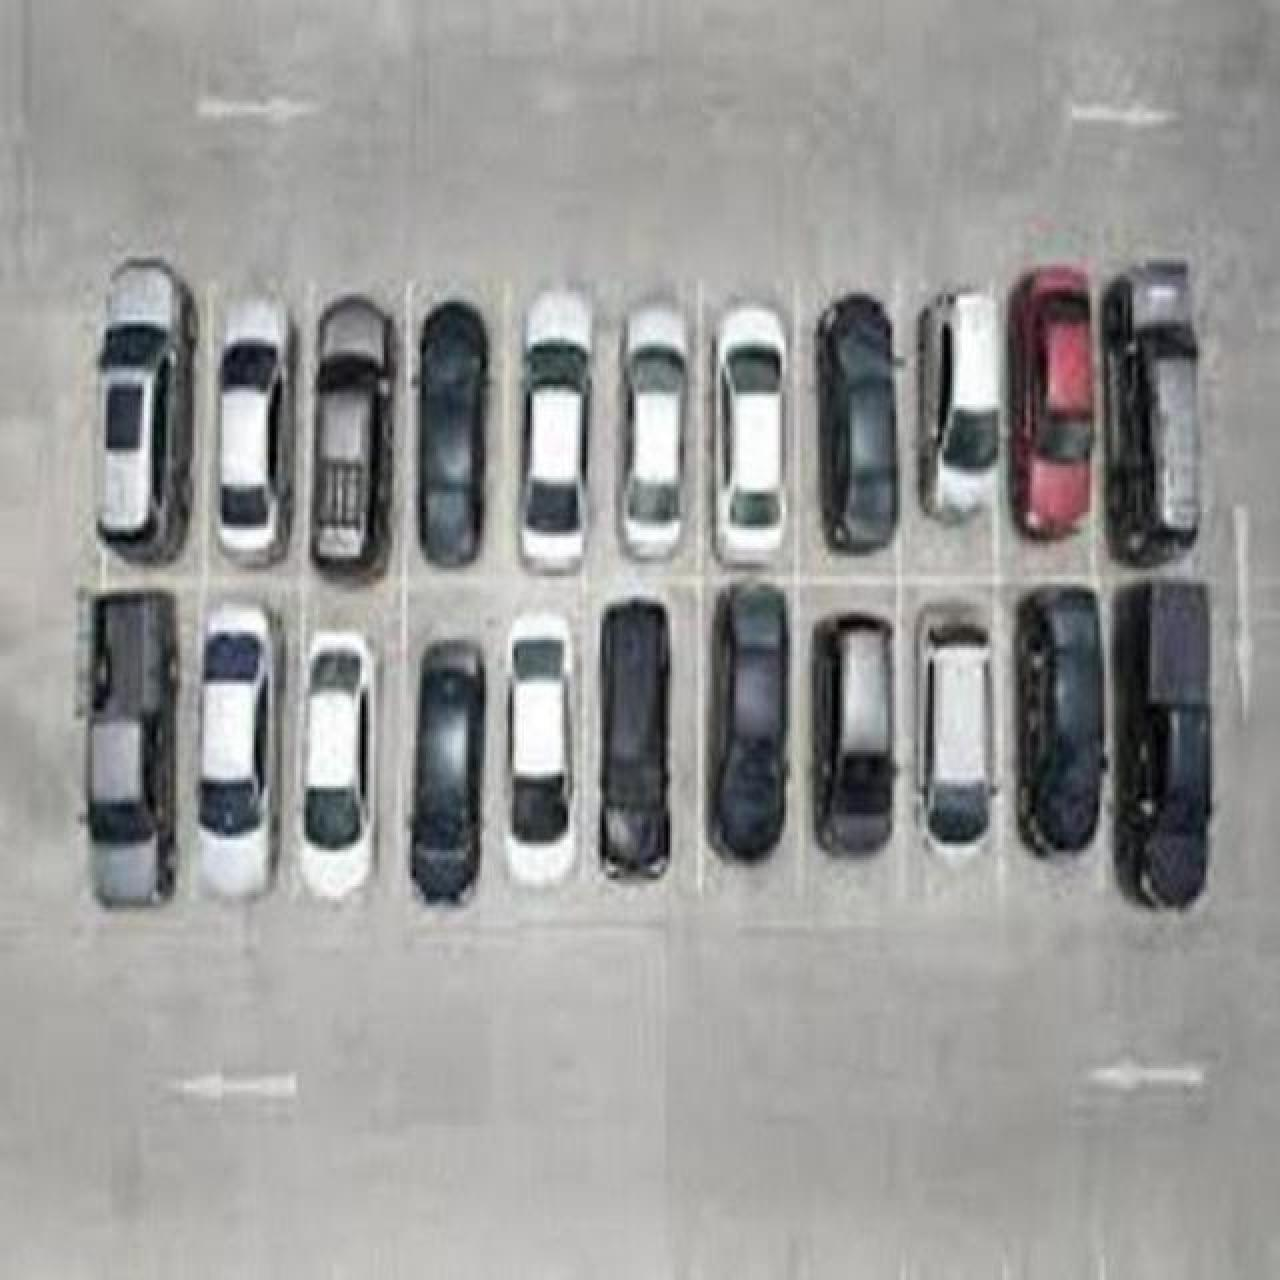car: (1114, 580, 1212, 910), (1100, 258, 1202, 566), (82, 588, 178, 906), (92, 256, 196, 548), (1014, 584, 1104, 856), (1006, 264, 1094, 540), (194, 604, 276, 898), (308, 294, 392, 570), (814, 292, 898, 552), (710, 580, 788, 858), (516, 288, 592, 572), (296, 632, 374, 900), (214, 290, 290, 564), (598, 596, 670, 878), (810, 614, 894, 854), (916, 288, 1000, 526), (712, 302, 788, 564), (408, 640, 482, 902), (416, 300, 488, 566), (618, 300, 690, 560), (918, 620, 994, 846), (506, 616, 572, 844)
